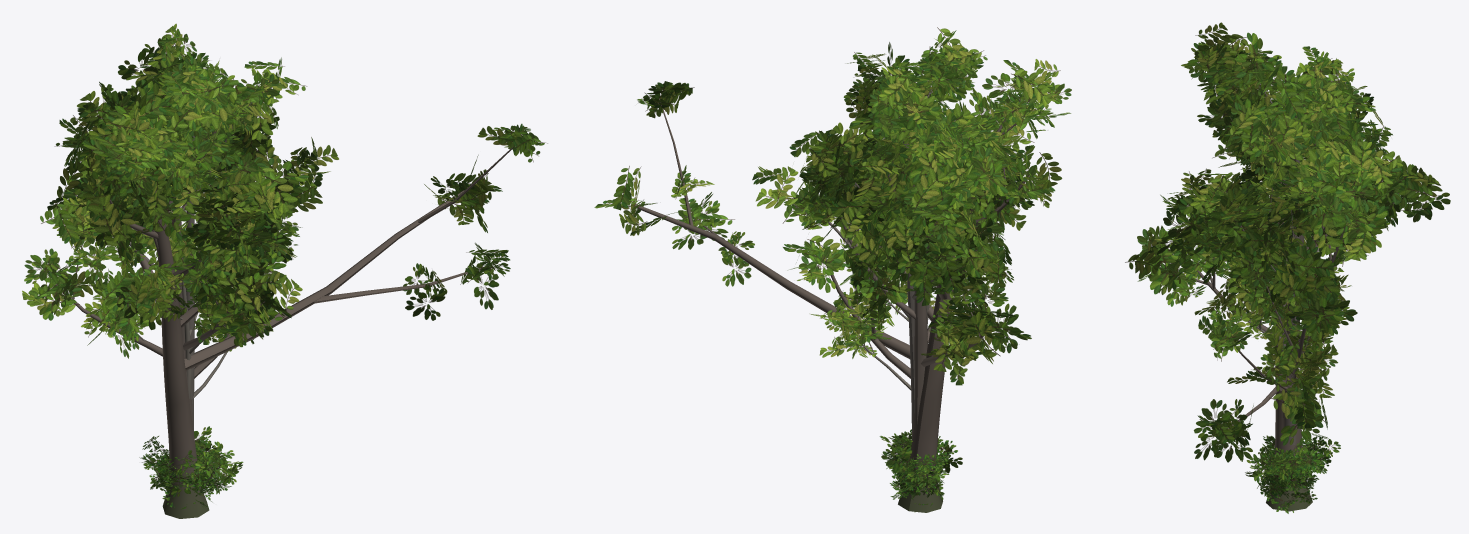
The model's file is trees.glb.
The picture shows the model from 3 angles, left to right: view 1: azimuth 30°, elevation 25°; view 2: azimuth 150°, elevation 25°; view 3: azimuth 270°, elevation 25°; orthographic projection. The views are drawn at different scales.
Visible parts, largest first — view 1: tree_1_leaves, tree_3_leaves, tree_0_leaves, tree_3_bark, tree_2_leaves, bush_0_leaves, bush_1_leaves, tree_1_bark, tree_2_bark, tree_0_bark; view 2: tree_3_leaves, tree_0_leaves, tree_1_leaves, tree_3_bark, tree_2_leaves, bush_0_leaves, tree_1_bark, bush_1_leaves, tree_0_bark; view 3: tree_1_leaves, tree_0_leaves, tree_3_leaves, tree_2_leaves, bush_0_leaves, tree_3_bark, bush_1_leaves, tree_1_bark, tree_0_bark.
Part boxes in pixels (x1,y1,x2,y2): tree_1_leaves: [22, 79, 308, 358]; tree_3_leaves: [54, 72, 547, 320]; tree_0_leaves: [40, 23, 338, 291]; tree_3_bark: [91, 131, 514, 518]; tree_2_leaves: [81, 196, 277, 352]; bush_0_leaves: [139, 426, 243, 509]; bush_1_leaves: [147, 441, 231, 507]; tree_1_bark: [55, 156, 265, 425]; tree_2_bark: [127, 262, 227, 398]; tree_0_bark: [75, 55, 306, 432]; tree_3_leaves: [594, 59, 1071, 305]; tree_0_leaves: [752, 27, 1013, 296]; tree_1_leaves: [783, 92, 1034, 363]; tree_3_bark: [634, 95, 1030, 512]; tree_2_leaves: [810, 241, 1005, 385]; bush_0_leaves: [879, 429, 962, 512]; tree_1_bark: [824, 186, 983, 437]; bush_1_leaves: [882, 451, 948, 506]; tree_0_bark: [780, 74, 977, 440]; tree_1_leaves: [1125, 73, 1387, 367]; tree_0_leaves: [1190, 32, 1403, 308]; tree_3_leaves: [1163, 22, 1450, 462]; tree_2_leaves: [1194, 207, 1351, 397]; bush_0_leaves: [1245, 433, 1340, 513]; tree_3_bark: [1205, 56, 1398, 511]; bush_1_leaves: [1258, 446, 1327, 503]; tree_1_bark: [1166, 117, 1350, 441]; tree_0_bark: [1226, 75, 1325, 445].
Size of the model in its own units: 10.62 by 10.5 by 6.7.
Materials: 2 (1 with a texture image).
